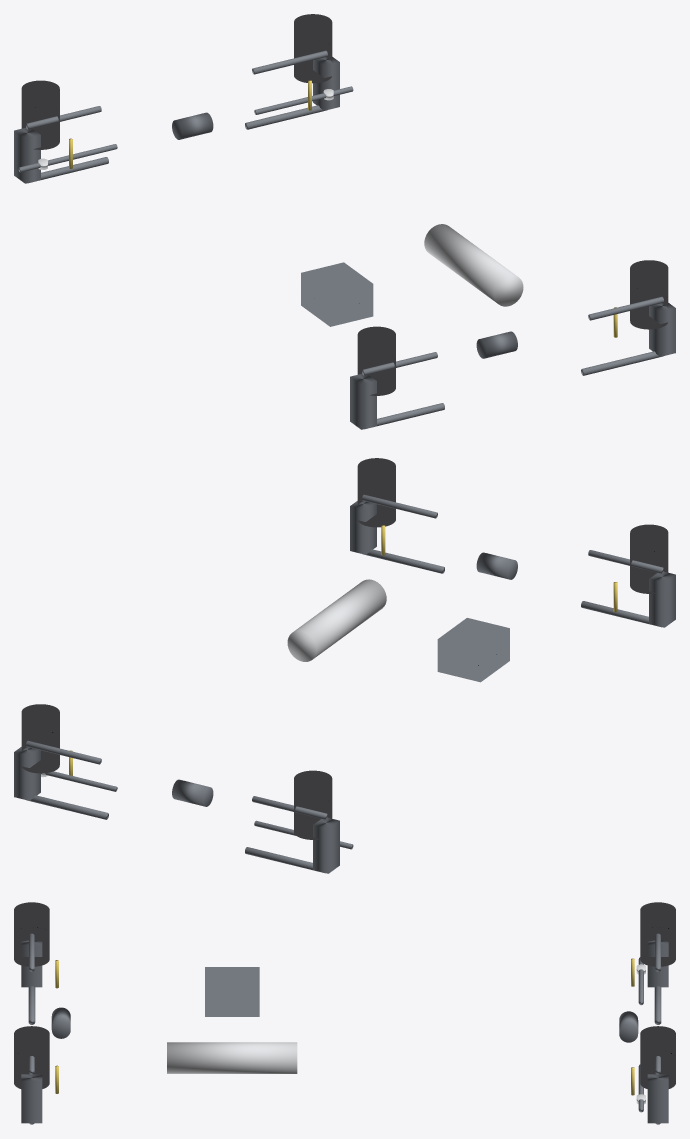
File: suspension.glb
3 renders of one model, top to bottom at view 1: azimuth 30°, elevation 25°; view 2: azimuth 150°, elevation 25°; view 3: azimuth 270°, elevation 25°, orthographic. The views are drawn at different scales.
Parts seen in each view (by area): view 1: SUV_Air_Suspension_Air_Tank, SUV_Air_Suspension_Compressor, SUV_AirSpring_Bellows_RR, SUV_AirSpring_Bellows_FL, SUV_AirSpring_Bellows_RL, SUV_AirSpring_Bellows_FR, SUV_Suspension_Hub_RL, SUV_Suspension_Hub_FL, SUV_Suspension_Hub_RR, SUV_Suspension_Hub_FR, SUV_Active_Roll_Stabilizer_Front, SUV_Active_Roll_Stabilizer_Rear (+1 smaller); view 2: SUV_Air_Suspension_Air_Tank, SUV_Air_Suspension_Compressor, SUV_AirSpring_Bellows_FR, SUV_AirSpring_Bellows_RL, SUV_AirSpring_Bellows_RR, SUV_AirSpring_Bellows_FL, SUV_Suspension_Hub_FL, SUV_Suspension_Hub_RL, SUV_Suspension_Hub_FR, SUV_Suspension_Hub_RR, SUV_Active_Roll_Stabilizer_Rear, SUV_Active_Roll_Stabilizer_Front (+1 smaller); view 3: SUV_Air_Suspension_Air_Tank, SUV_Air_Suspension_Compressor, SUV_AirSpring_Bellows_FL, SUV_AirSpring_Bellows_RL, SUV_AirSpring_Bellows_FR, SUV_AirSpring_Bellows_RR, SUV_Suspension_Hub_FR, SUV_Suspension_Hub_RR, SUV_Suspension_Hub_FL, SUV_Suspension_Hub_RL, SUV_Active_Roll_Stabilizer_Rear, SUV_Active_Roll_Stabilizer_Front.
Boxes of the visible parts, x1,y1,x2,y2 form: SUV_Air_Suspension_Air_Tank: (424, 224, 523, 306); SUV_Air_Suspension_Compressor: (301, 262, 373, 326); SUV_AirSpring_Bellows_RR: (630, 260, 668, 329); SUV_AirSpring_Bellows_FL: (21, 80, 59, 149); SUV_AirSpring_Bellows_RL: (357, 326, 395, 395); SUV_AirSpring_Bellows_FR: (294, 14, 332, 83); SUV_Suspension_Hub_RL: (350, 374, 376, 429); SUV_Suspension_Hub_FL: (14, 127, 40, 183); SUV_Suspension_Hub_RR: (649, 303, 675, 356); SUV_Suspension_Hub_FR: (313, 57, 339, 110); SUV_Active_Roll_Stabilizer_Front: (172, 112, 213, 139); SUV_Active_Roll_Stabilizer_Rear: (476, 331, 517, 358); SUV_Air_Suspension_Air_Tank: (287, 579, 386, 661); SUV_Air_Suspension_Compressor: (437, 618, 509, 682); SUV_AirSpring_Bellows_FR: (21, 704, 59, 773); SUV_AirSpring_Bellows_RL: (630, 524, 668, 593); SUV_AirSpring_Bellows_RR: (357, 458, 395, 527); SUV_AirSpring_Bellows_FL: (294, 770, 332, 839); SUV_Suspension_Hub_FL: (313, 818, 339, 873); SUV_Suspension_Hub_RL: (649, 571, 675, 627); SUV_Suspension_Hub_FR: (14, 747, 40, 800); SUV_Suspension_Hub_RR: (350, 501, 376, 554); SUV_Active_Roll_Stabilizer_Rear: (476, 552, 517, 579); SUV_Active_Roll_Stabilizer_Front: (172, 779, 213, 806); SUV_Air_Suspension_Air_Tank: (167, 1042, 297, 1073); SUV_Air_Suspension_Compressor: (205, 967, 259, 1016); SUV_AirSpring_Bellows_FL: (640, 902, 675, 966); SUV_AirSpring_Bellows_RL: (14, 902, 49, 966); SUV_AirSpring_Bellows_FR: (640, 1026, 675, 1088); SUV_AirSpring_Bellows_RR: (14, 1026, 49, 1088); SUV_Suspension_Hub_FR: (647, 1074, 668, 1123); SUV_Suspension_Hub_RR: (21, 1074, 42, 1123); SUV_Suspension_Hub_FL: (647, 940, 668, 987); SUV_Suspension_Hub_RL: (21, 940, 42, 987); SUV_Active_Roll_Stabilizer_Rear: (51, 1007, 70, 1038); SUV_Active_Roll_Stabilizer_Front: (619, 1011, 638, 1042).
Bounding box in the file's own units: 1.7 × 0.446 × 3.15.
